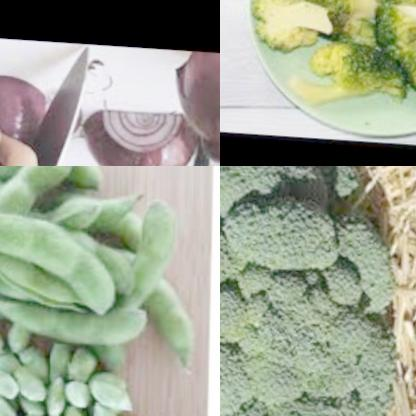beans: (0, 166, 189, 352), (0, 332, 147, 416)
broccoli: (220, 166, 403, 416), (303, 34, 416, 117), (249, 0, 384, 55)
onion: (72, 97, 194, 166), (162, 46, 220, 166), (0, 76, 46, 166)
